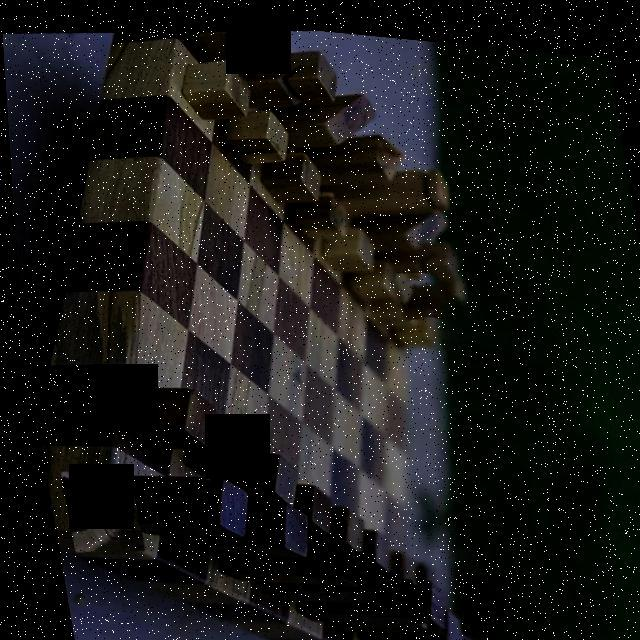chess-table-corners: (54, 462, 138, 555), (391, 260, 442, 314), (348, 627, 414, 640)
